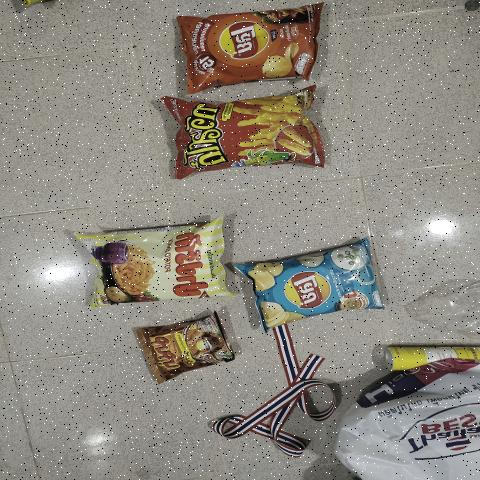lay_blue: (265, 248, 369, 318)
mama: (152, 321, 216, 376)
paprika: (114, 229, 216, 300)
twisco: (181, 90, 315, 171)
